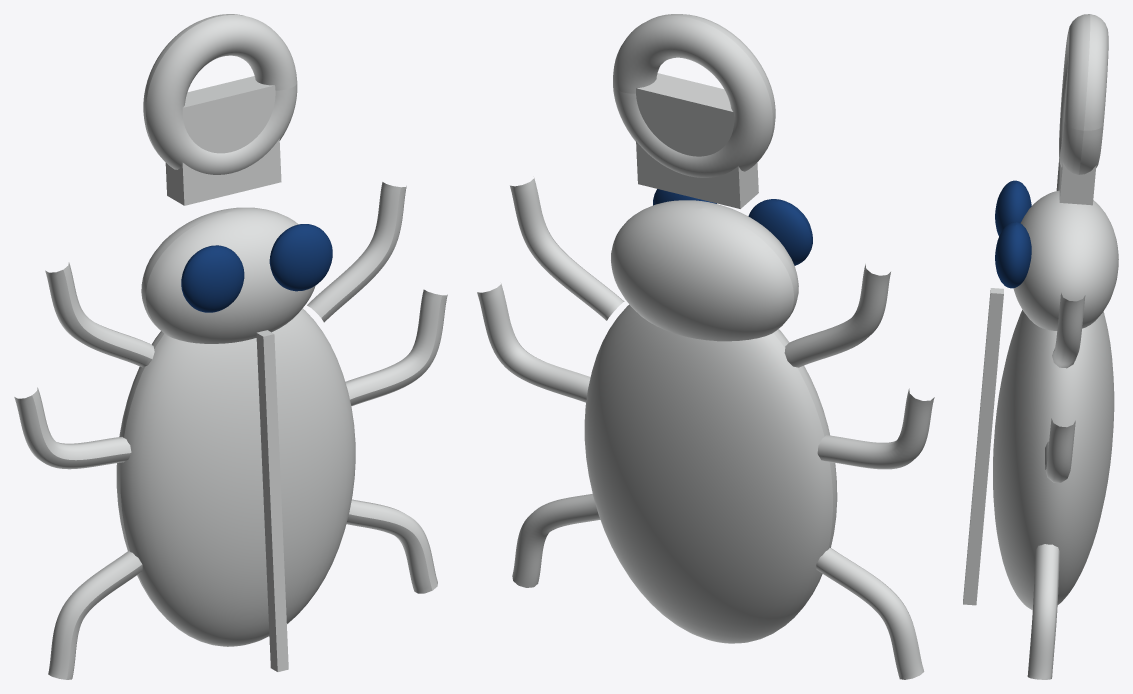
3 renders of one model, left to right at view 1: azimuth 30°, elevation 25°; view 2: azimuth 150°, elevation 25°; view 3: azimuth 270°, elevation 25°, orthographic. The views are drawn at different scales.
Parts seen in each view (by area): view 1: Dije Escarabajo — reconstrucción visual; view 2: Dije Escarabajo — reconstrucción visual; view 3: Dije Escarabajo — reconstrucción visual.
Boxes of the visible parts, x1,y1,x2,y2 form: Dije Escarabajo — reconstrucción visual: (14,14,447,679); Dije Escarabajo — reconstrucción visual: (477,14,934,679); Dije Escarabajo — reconstrucción visual: (963,14,1118,679).
Bounding box in the file's own units: 2.14 × 2.89 × 0.7.
